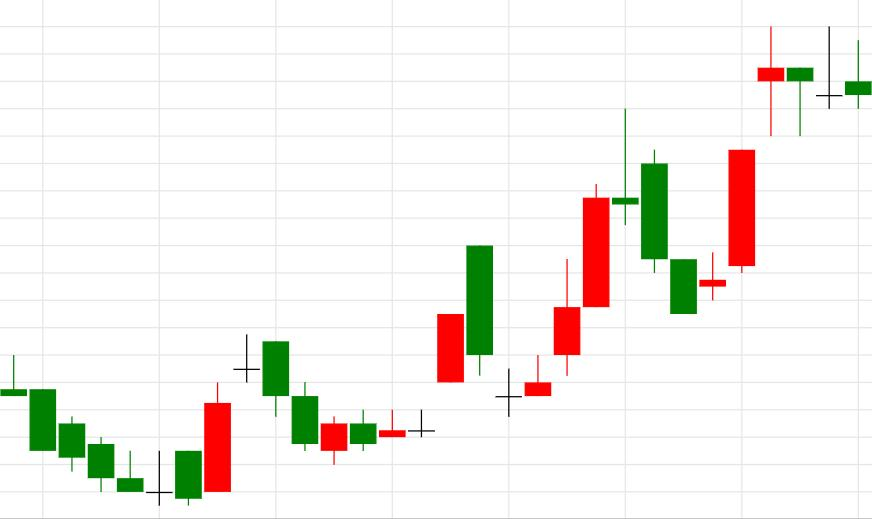evening_star_fall: (495, 108, 667, 417)
